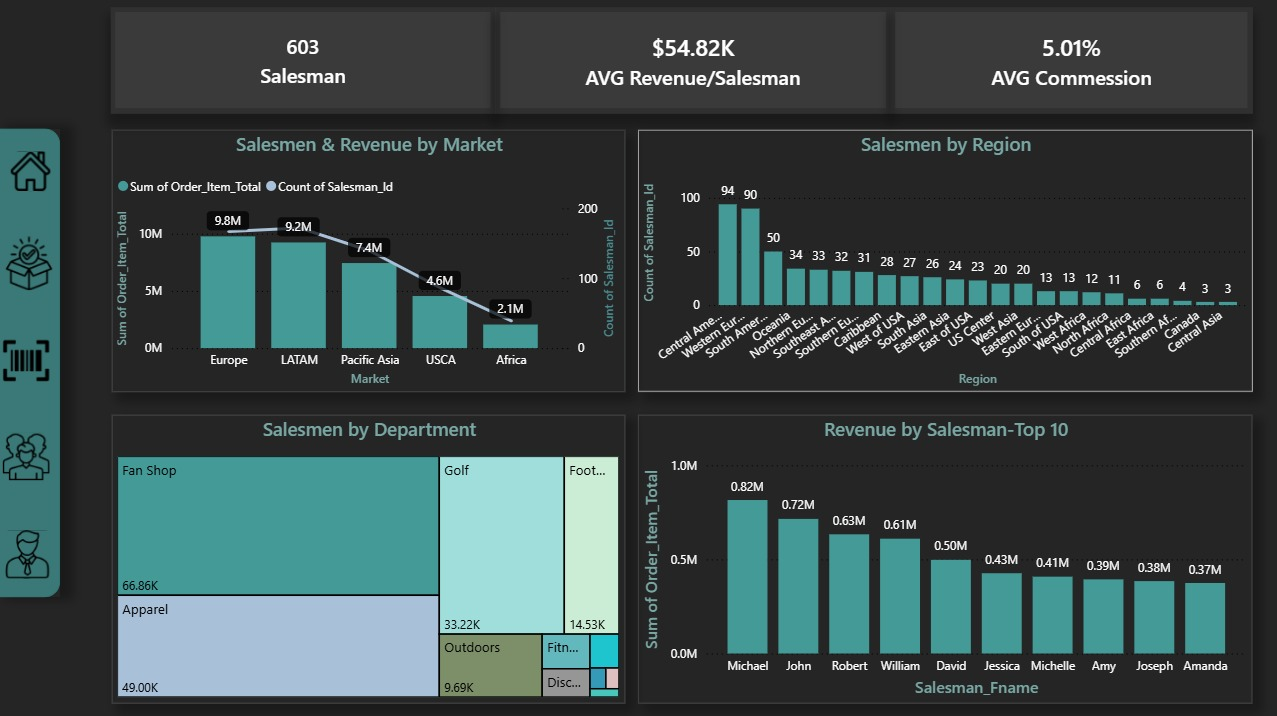

This screenshot's page, from the dashboard's own definition file:
{"tool":"powerbi","page":{"name":"Salesman","canvas":[1280,720],"ordinal":4},"visuals":[{"type":"shape","box":[0,132.7,62,468.9],"z":0,"group":"g1"},{"type":"lineStackedColumnComboChart","title":"Salesmen & Revenue by Market","fields":{"Category":["Gold DimSalesman.Market"],"Y2":["CountNonNull(Gold DimSalesman.Salesman_Id)"],"Y":["Sum(Gold FactOrders.Order_Item_Total)"]},"box":[114,134.2,513.6,262.6],"z":0},{"type":"actionButton","box":[8.7,147.1,47.6,56.3],"z":1000,"group":"g1"},{"type":"columnChart","title":"Revenue by Salesman-Top 10 ","fields":{"Category":["Gold DimSalesman.Salesman_Fname"],"Y":["Sum(Gold FactOrders.Order_Item_Total)"]},"box":[640.6,418.4,614.6,288.6],"z":1000},{"type":"group","id":"g1","title":"Group 1","box":[0,132.7,62,468.9],"z":2000},{"type":"actionButton","box":[0,235.5,62,64.9],"z":2000,"group":"g1"},{"type":"actionButton","box":[0,332.5,56.3,64.9],"z":3000,"group":"g1"},{"type":"treemap","title":"Salesmen by Department","fields":{"Group":["Gold DimProducts.Department_Name"],"Values":["CountNonNull(Gold FactOrders.salesman_id)"]},"box":[114,418.4,513.6,288.6],"z":3000},{"type":"columnChart","title":"Salesmen by Region","fields":{"Category":["Gold DimSalesman.Region"],"Y":["CountNonNull(Gold DimSalesman.Salesman_Id)"]},"box":[640.6,134.2,614.6,262.6],"z":4000},{"type":"actionButton","box":[0,429.5,56.3,64.9],"z":4000,"group":"g1"},{"type":"cardVisual","fields":{"Data":["_Measures.Salesman"]},"box":[112.5,11.5,385.2,106.8],"z":5000},{"type":"actionButton","box":[1.4,526.6,56.3,64.9],"z":5000,"group":"g1"},{"type":"cardVisual","fields":{"Data":["_Measures.AVG Revenue/Salesman"]},"box":[497.8,11.5,395.3,106.8],"z":6000},{"type":"cardVisual","fields":{"Data":["_Measures.AVG Commession"]},"box":[893.1,11.5,362.1,106.8],"z":7000}]}

Visuals, with their boxes on the page's 1280x720 design canvas (x1, y1, x2, y2). These are canvas units, not pixel positions in the 1277x716 screenshot, which may show the page scaled, cropped or inside an application window:
shape: [left=0, top=133, right=62, bottom=602]
"Salesmen & Revenue by Market" lineStackedColumnComboChart: [left=114, top=134, right=628, bottom=397]
actionButton: [left=9, top=147, right=56, bottom=203]
"Revenue by Salesman-Top 10 " columnChart: [left=641, top=418, right=1255, bottom=707]
"Group 1" group: [left=0, top=133, right=62, bottom=602]
actionButton: [left=0, top=236, right=62, bottom=300]
actionButton: [left=0, top=332, right=56, bottom=397]
"Salesmen by Department" treemap: [left=114, top=418, right=628, bottom=707]
"Salesmen by Region" columnChart: [left=641, top=134, right=1255, bottom=397]
actionButton: [left=0, top=430, right=56, bottom=494]
cardVisual - _Measures.Salesman: [left=112, top=12, right=498, bottom=118]
actionButton: [left=1, top=527, right=58, bottom=592]
cardVisual - _Measures.AVG Revenue/Salesman: [left=498, top=12, right=893, bottom=118]
cardVisual - _Measures.AVG Commession: [left=893, top=12, right=1255, bottom=118]
